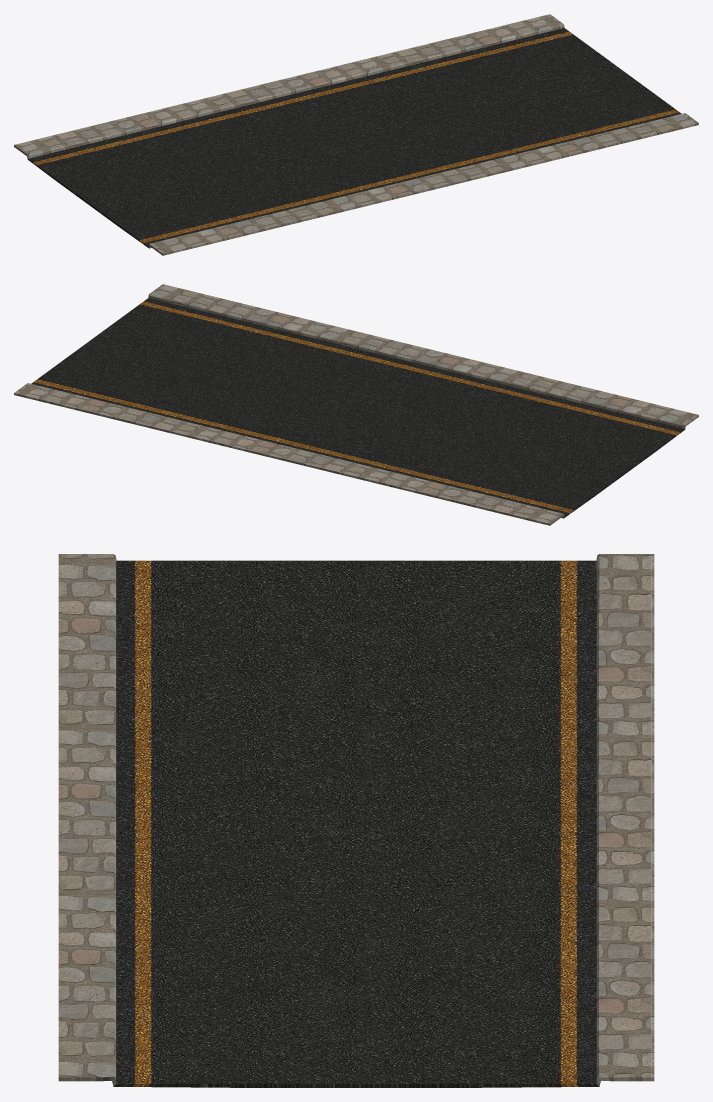
File: modular-city-road-pack-game-ready-4in-2-008-8.glb
3 views of the same model, one above another, from view 1: azimuth 30°, elevation 25°; view 2: azimuth 150°, elevation 25°; view 3: azimuth 270°, elevation 25° (orthographic). The views are drawn at different scales.
Parts seen in each view (by area): view 1: 4in 2.008_8; view 2: 4in 2.008_8; view 3: 4in 2.008_8.
Part boxes in pixels (x1,y1,x2,y2): 4in 2.008_8: [14, 14, 698, 255]; 4in 2.008_8: [14, 284, 698, 525]; 4in 2.008_8: [58, 554, 654, 1087].
Size of the model in its own units: 5.63 by 0.0526 by 2.71.
Materials: 2 (2 with a texture image).
